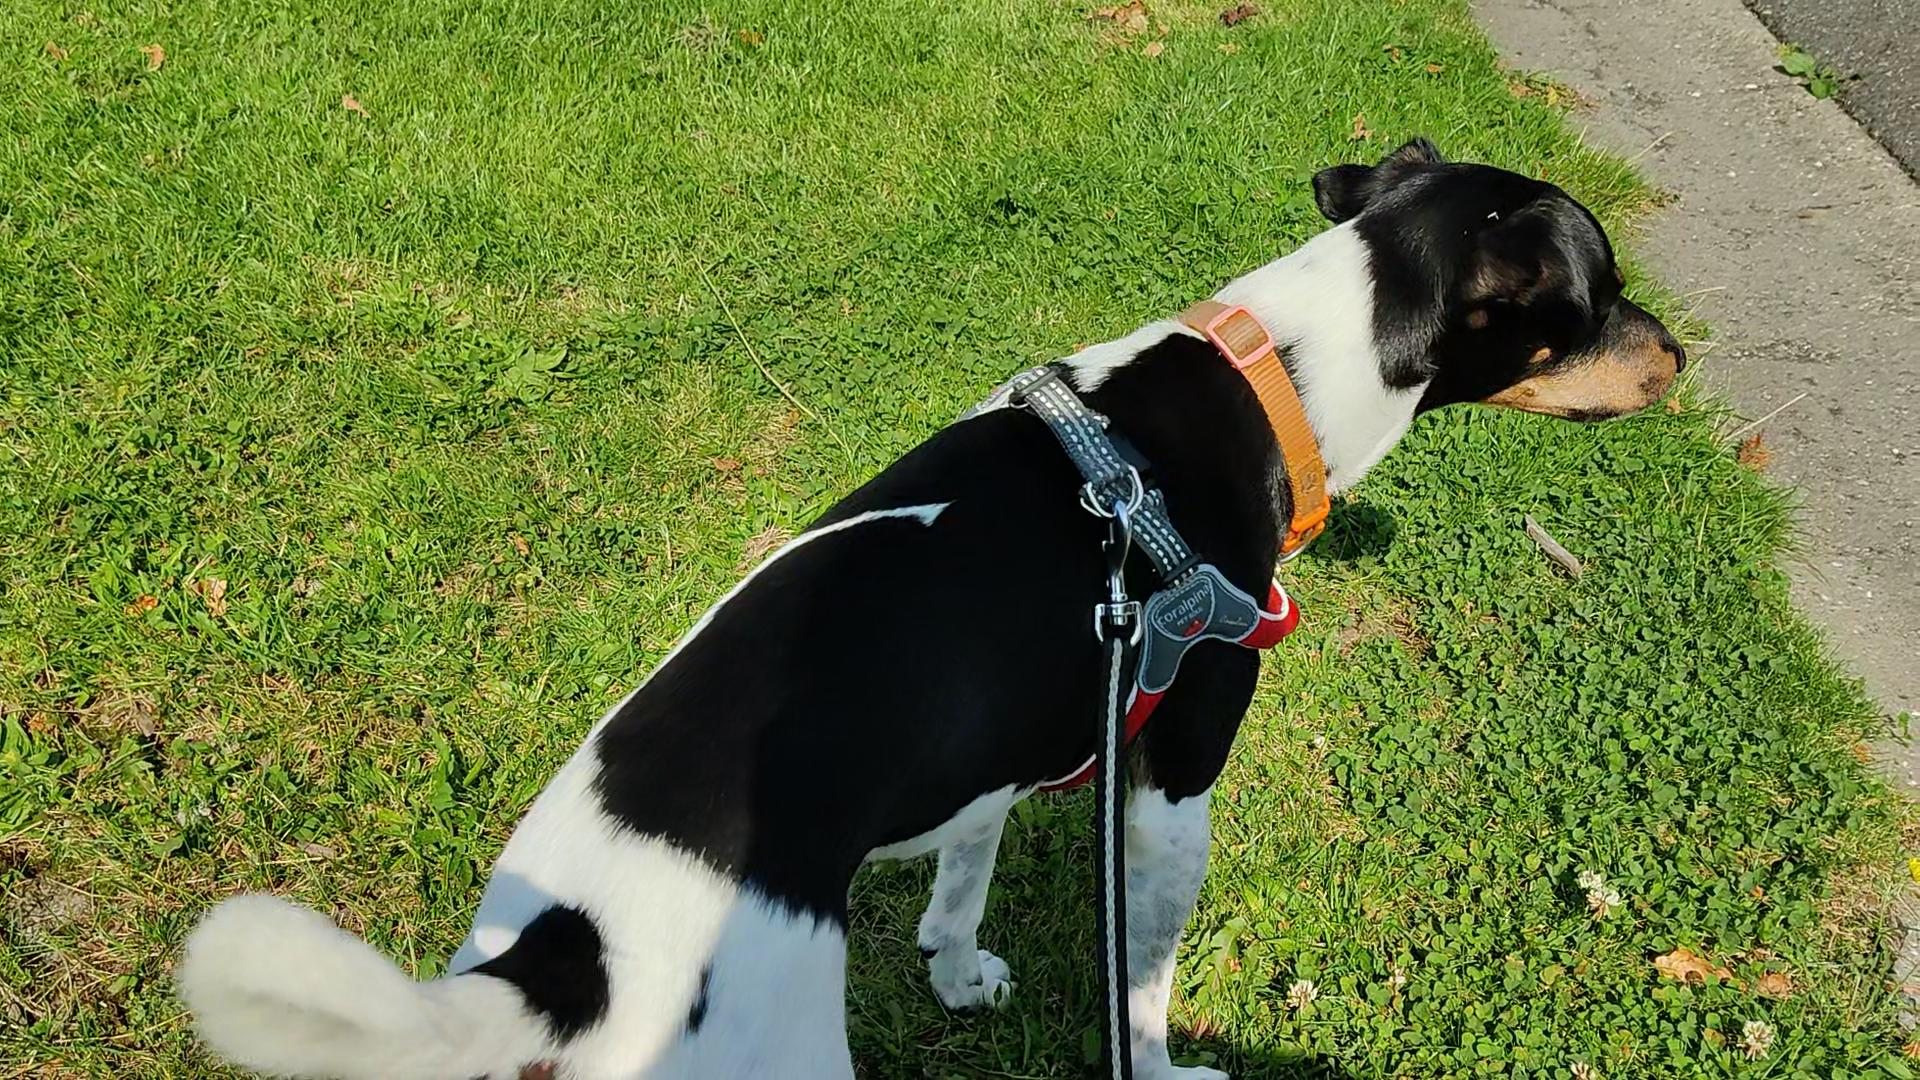Dog: (169, 133, 1689, 1079)
